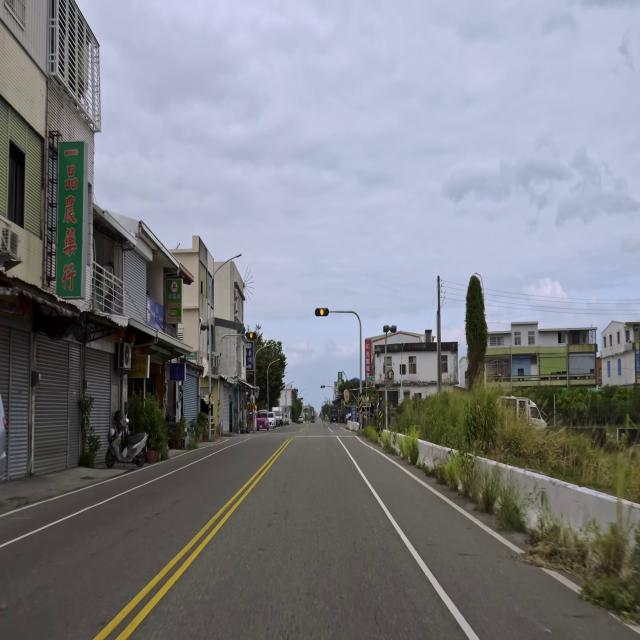yellow light: (315, 307, 329, 317), (246, 332, 256, 339)
